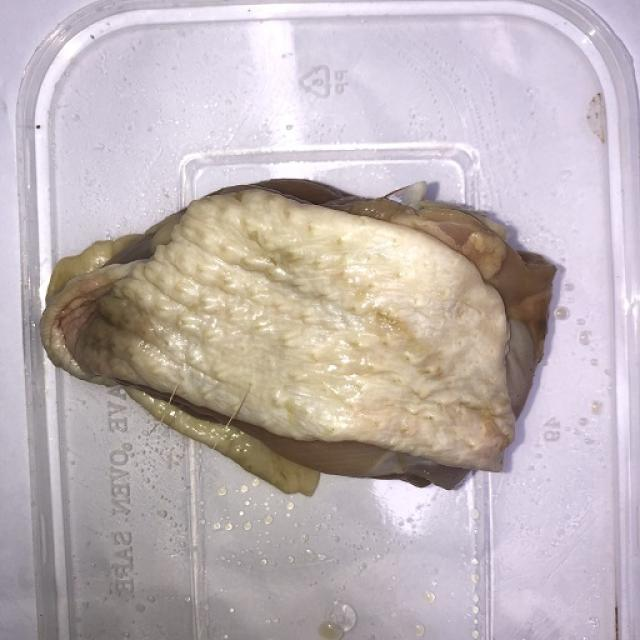Wet Waste: (36, 166, 571, 509)
